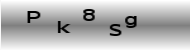8: (81, 8, 96, 21)
P: (26, 9, 41, 24)
S: (108, 23, 122, 36)
g: (124, 15, 137, 29)
k: (57, 19, 72, 34)
